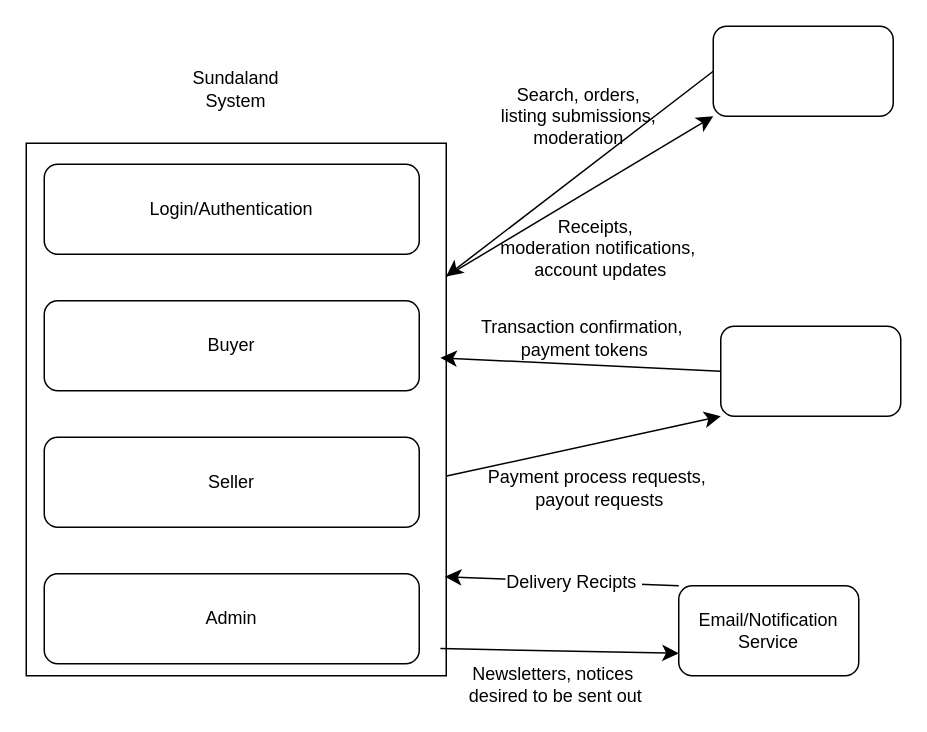
Image size: 927x732. Some labels were removed from this diagram. Each missing label, with the centre of its shape:
Bank/Payment System: the point at 810,370
Users: the point at 802,70
